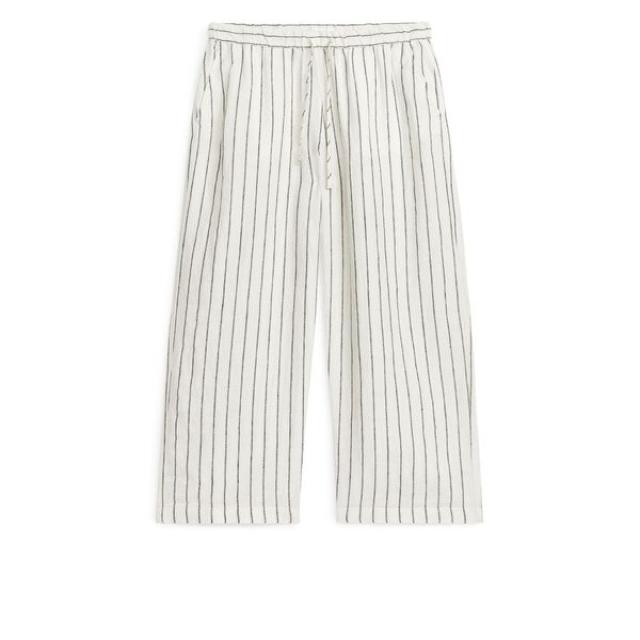long-pants: (150, 20, 483, 530)
